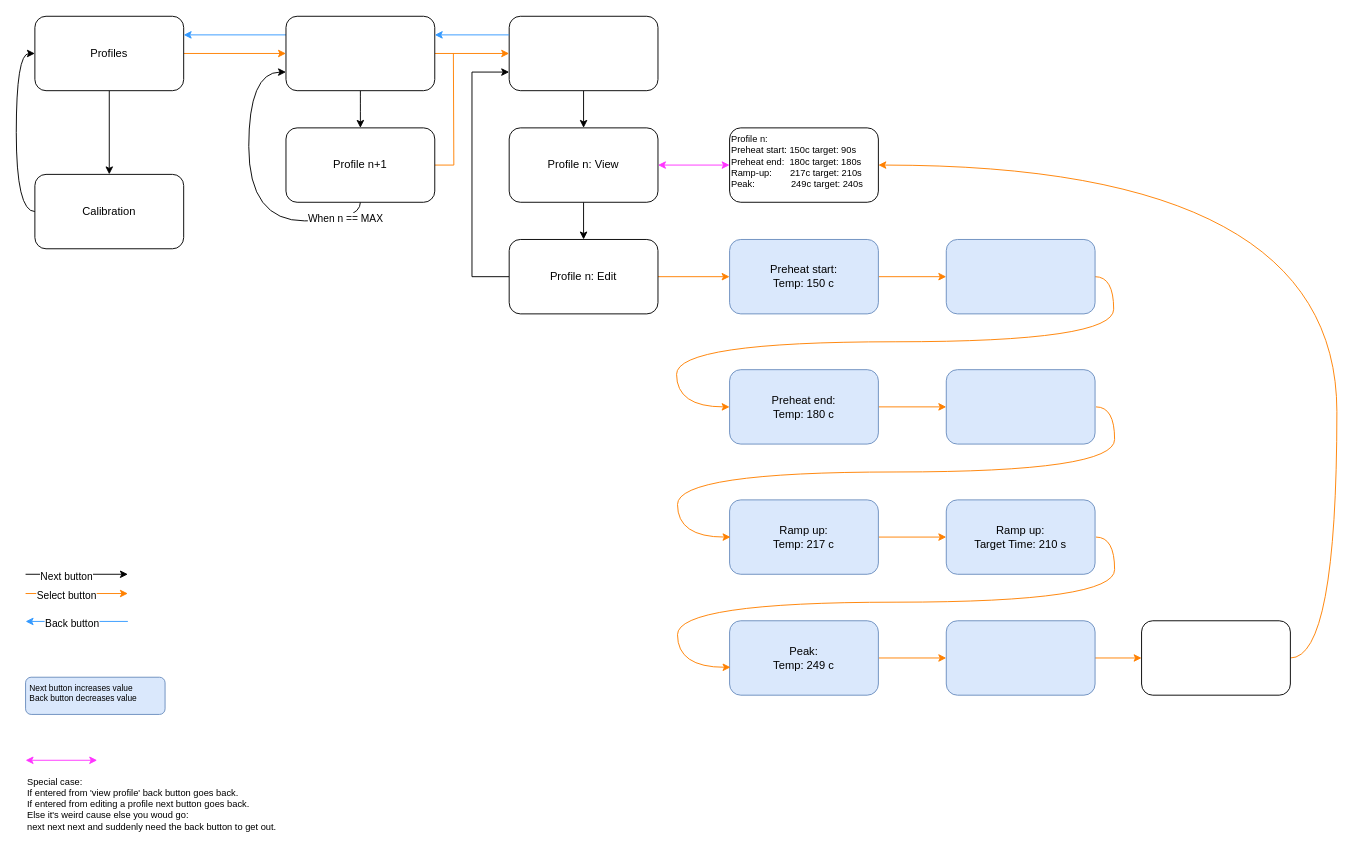
This 1353x861 diagram has some shape labels left out. Each missing label, with the centre of its shape:
"Peak: Target Time: 249 s" goes at pixel 1020 657.
"Preheat end: Target Time: 180 s" goes at pixel 1020 406.
"Preheat start: Target Time: 90 s" goes at pixel 1020 276.
"Profile n" goes at pixel 360 53.
"Profile n Saved!" goes at pixel 1215 657.
"Profile n: Run" goes at pixel 583 53.
